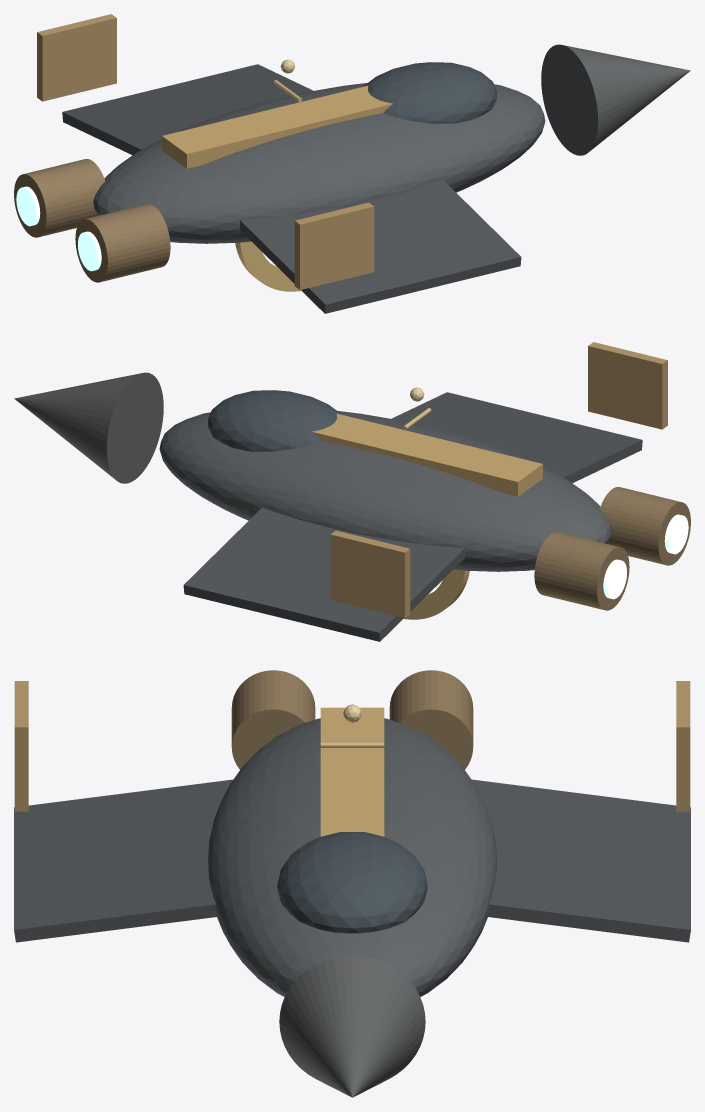
The model's file is ufo-magic-ark.glb.
3 views of the same model, one above another, from view 1: azimuth 30°, elevation 25°; view 2: azimuth 150°, elevation 25°; view 3: azimuth 270°, elevation 25° (orthographic). The views are drawn at different scales.
Parts seen in each view (by area): view 1: hull, wing_1, nose, wing_-1, spine, cockpit, fin_1, fin_-1, engine_0.68, engine_-0.68, under_ring, engine_core_-0.68 (+1 smaller); view 2: hull, wing_-1, nose, wing_1, spine, cockpit, fin_-1, fin_1, engine_-0.68, engine_0.68, under_ring, engine_core_0.68 (+1 smaller); view 3: hull, wing_-1, wing_1, nose, cockpit, spine, engine_-0.68, engine_0.68, fin_-1, fin_1.
Boxes of the visible parts, left/top/right/bottom form: hull: left=93, top=83, right=545, bottom=243; wing_1: left=239, top=179, right=521, bottom=313; nose: left=541, top=44, right=690, bottom=155; wing_-1: left=62, top=64, right=313, bottom=155; spine: left=162, top=85, right=392, bottom=168; cockpit: left=363, top=62, right=496, bottom=123; fin_1: left=294, top=202, right=374, bottom=289; fin_-1: left=37, top=14, right=116, bottom=101; engine_0.68: left=75, top=204, right=170, bottom=282; engine_-0.68: left=14, top=159, right=105, bottom=237; under_ring: left=235, top=241, right=301, bottom=291; engine_core_-0.68: left=16, top=186, right=40, bottom=226; hull: left=159, top=411, right=611, bottom=571; wing_-1: left=183, top=507, right=465, bottom=641; nose: left=14, top=372, right=163, bottom=483; wing_1: left=391, top=392, right=642, bottom=483; spine: left=312, top=413, right=542, bottom=496; cockpit: left=208, top=390, right=341, bottom=451; fin_-1: left=330, top=530, right=410, bottom=617; fin_1: left=588, top=342, right=667, bottom=429; engine_-0.68: left=534, top=532, right=629, bottom=610; engine_0.68: left=599, top=487, right=690, bottom=565; under_ring: left=403, top=569, right=469, bottom=619; engine_core_0.68: left=664, top=514, right=688, bottom=554; hull: left=208, top=718, right=496, bottom=996; wing_-1: left=471, top=779, right=690, bottom=942; wing_1: left=14, top=779, right=233, bottom=942; nose: left=279, top=955, right=425, bottom=1097; cockpit: left=277, top=832, right=427, bottom=933; spine: left=320, top=707, right=384, bottom=836; engine_-0.68: left=389, top=670, right=473, bottom=769; engine_0.68: left=231, top=670, right=315, bottom=769; fin_-1: left=676, top=681, right=690, bottom=811; fin_1: left=14, top=681, right=28, bottom=811.
Size of the model in its own units: 8.1 by 2.83 by 5.83.
